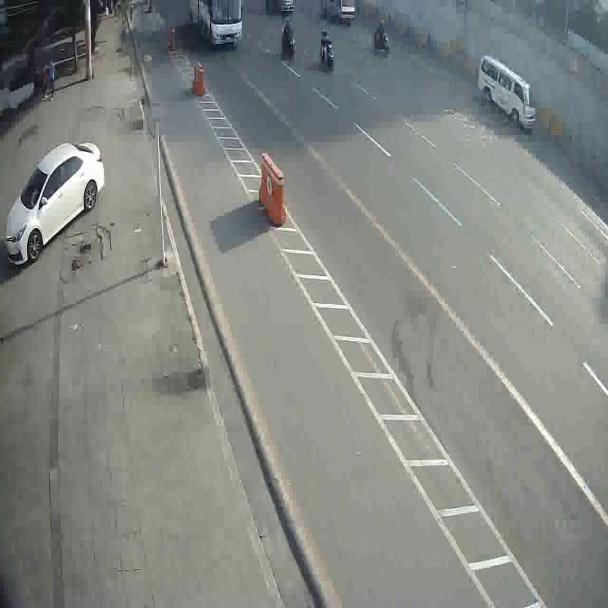motorcyclist: (317, 28, 336, 72)
vehicle: (7, 142, 104, 272), (477, 54, 537, 129), (190, 0, 240, 50)
